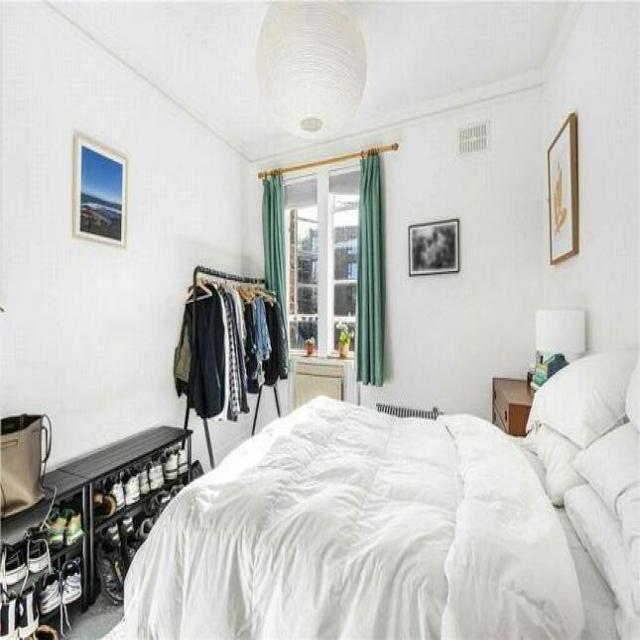Wall: (0, 11, 251, 464), (382, 4, 640, 417), (421, 144, 640, 417), (50, 0, 314, 160), (65, 32, 260, 239), (320, 0, 571, 141), (65, 593, 124, 640)
